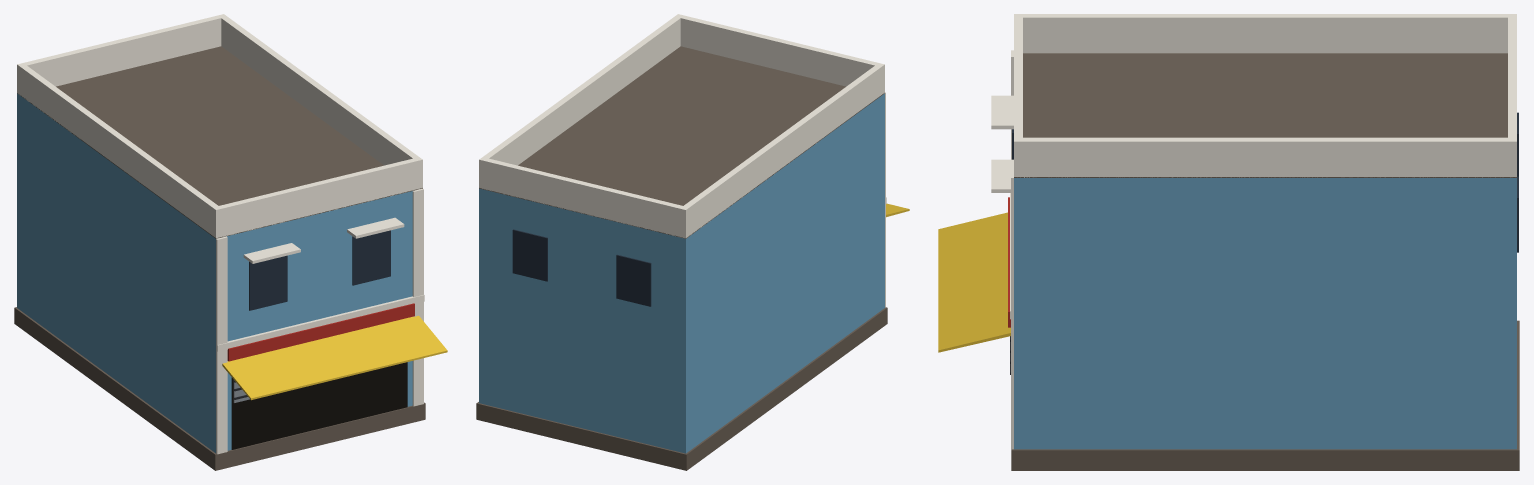
Rendered from bld_ot_shop_06.glb.
3 views of the same model, side by side, from view 1: azimuth 30°, elevation 25°; view 2: azimuth 150°, elevation 25°; view 3: azimuth 270°, elevation 25° (orthographic). The views are drawn at different scales.
Visible parts, largest first — view 1: bld_ot_shop_06; view 2: bld_ot_shop_06; view 3: bld_ot_shop_06.
Boxes of the visible parts, x1,y1,x2,y2 form: bld_ot_shop_06: (14,14,447,470); bld_ot_shop_06: (476,14,909,470); bld_ot_shop_06: (938,14,1519,470).
Size of what is drawn, in the model's own units: 6.1 by 7.2 by 11.55.
